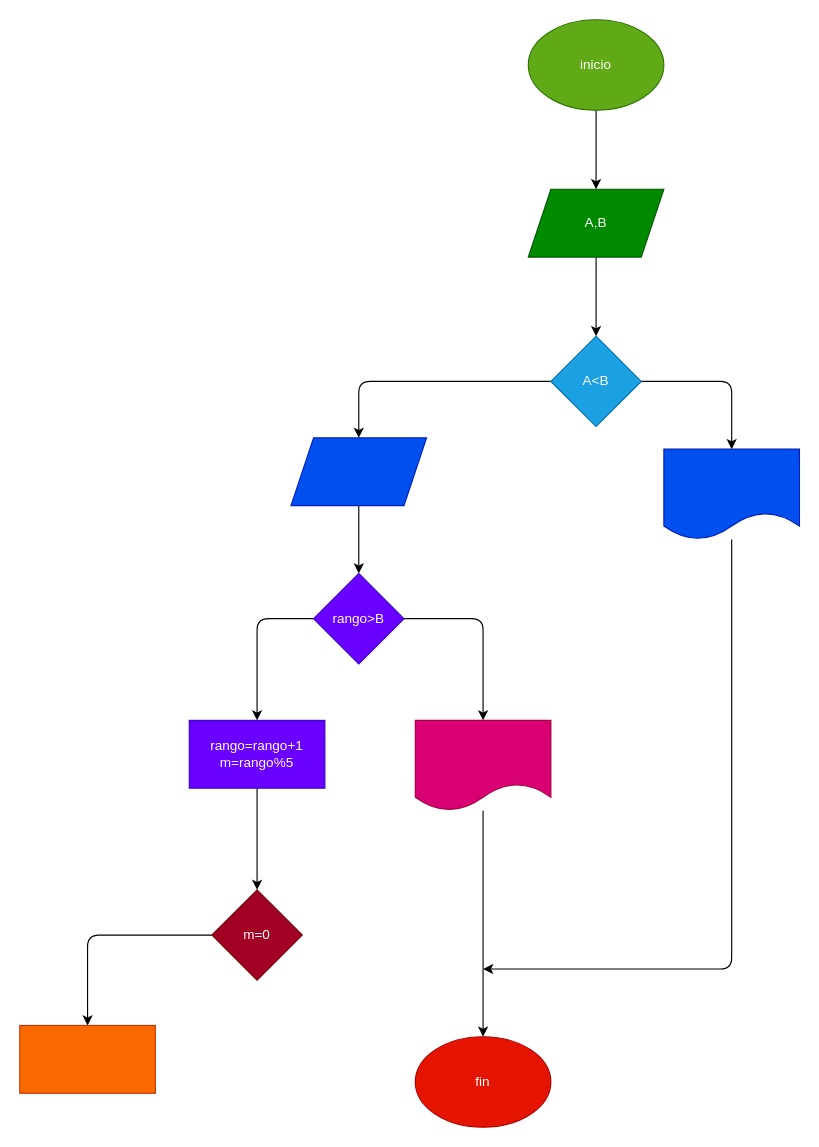
Image size: 819x1147. Some labels were removed from this diagram. The shapes that lost their labels are listed below. From the top down, each one's box as (x1, y1, x2, y2) in pixels, then its label:
(290, 437, 427, 506): rango=0 cant_m5=0
(663, 448, 799, 540): A mayor puede ser mayor que B
(414, 719, 551, 811): cant_m5
(19, 1024, 155, 1093): cant_m5=cant_m5+1
